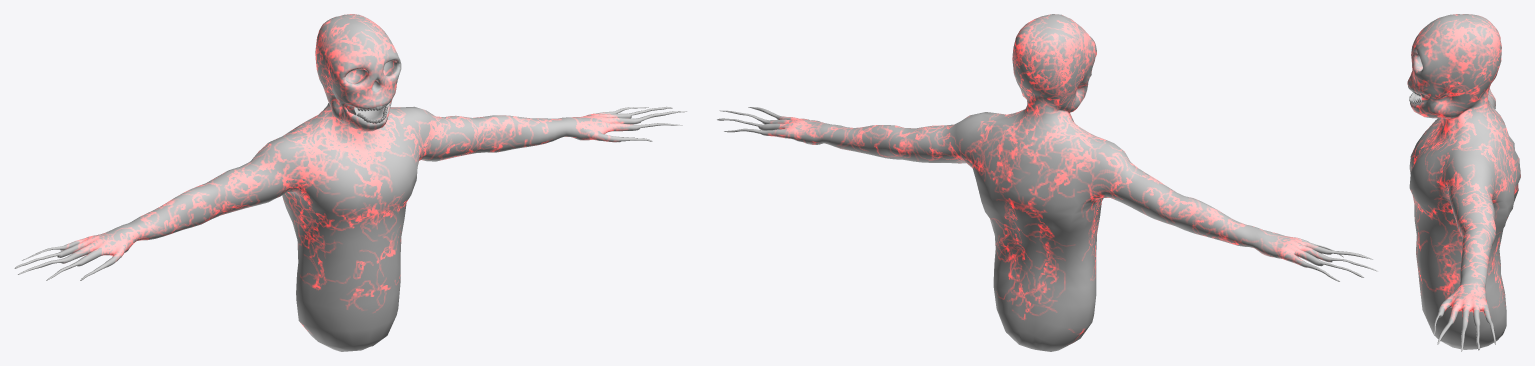
File: Ghoul.fbx
The picture shows the model from 3 angles, left to right: view 1: azimuth 30°, elevation 25°; view 2: azimuth 150°, elevation 25°; view 3: azimuth 270°, elevation 25°; orthographic projection.
Visible parts, largest first — view 1: RetopoFlow Body Active.001; view 2: RetopoFlow Body Active.001; view 3: RetopoFlow Body Active.001.
Boxes of the visible parts, x1,y1,x2,y2 form: RetopoFlow Body Active.001: (14,14,686,351); RetopoFlow Body Active.001: (717,14,1377,351); RetopoFlow Body Active.001: (1407,14,1520,351).
Size of the model in its own units: 597 by 281 by 88.48.
